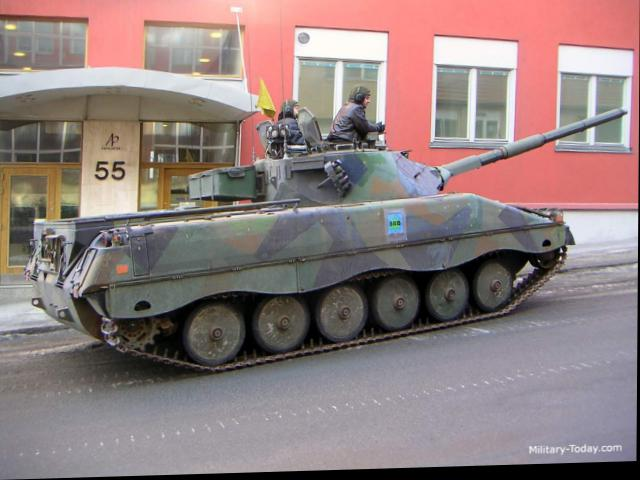other: (254, 77, 323, 190), (324, 80, 388, 169)
tank: (43, 135, 564, 351)
